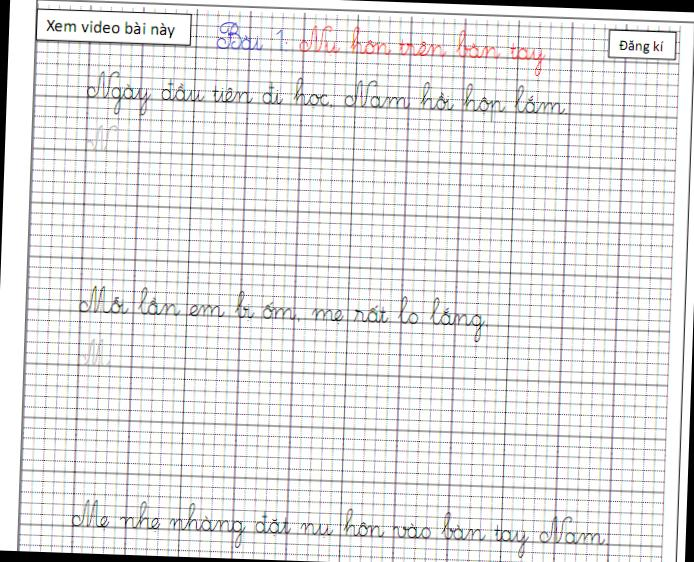text: (68, 496, 609, 560), (82, 66, 570, 132), (76, 282, 489, 342), (213, 19, 549, 78), (43, 14, 178, 40), (74, 336, 113, 369), (82, 120, 121, 152), (616, 36, 666, 56)
